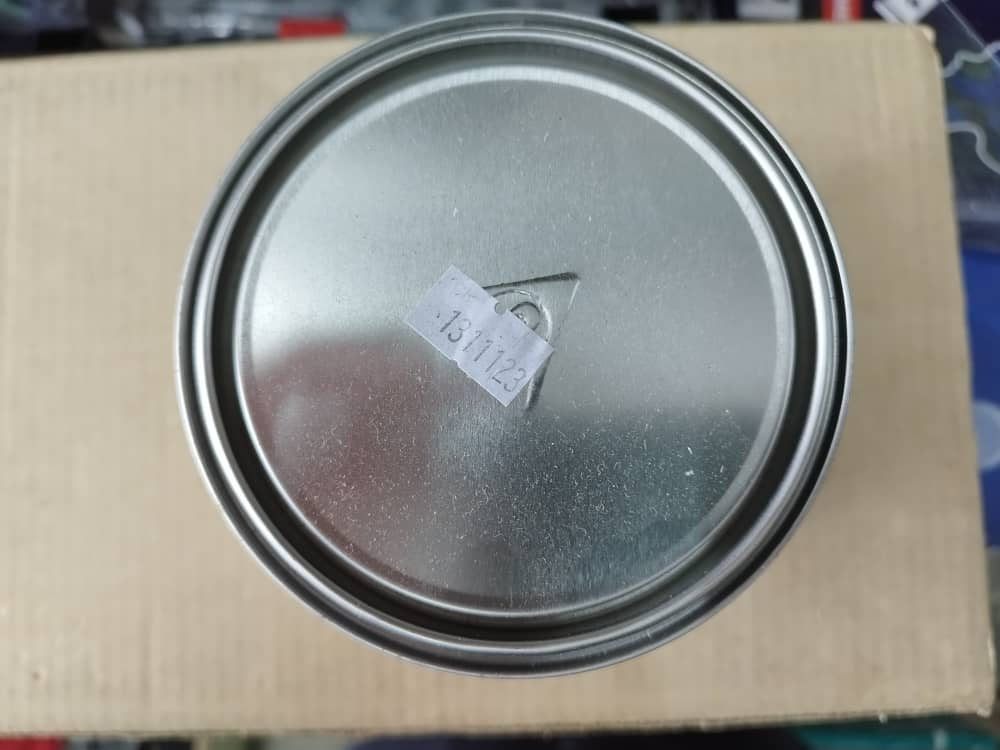sku_glue: (173, 10, 878, 689)
